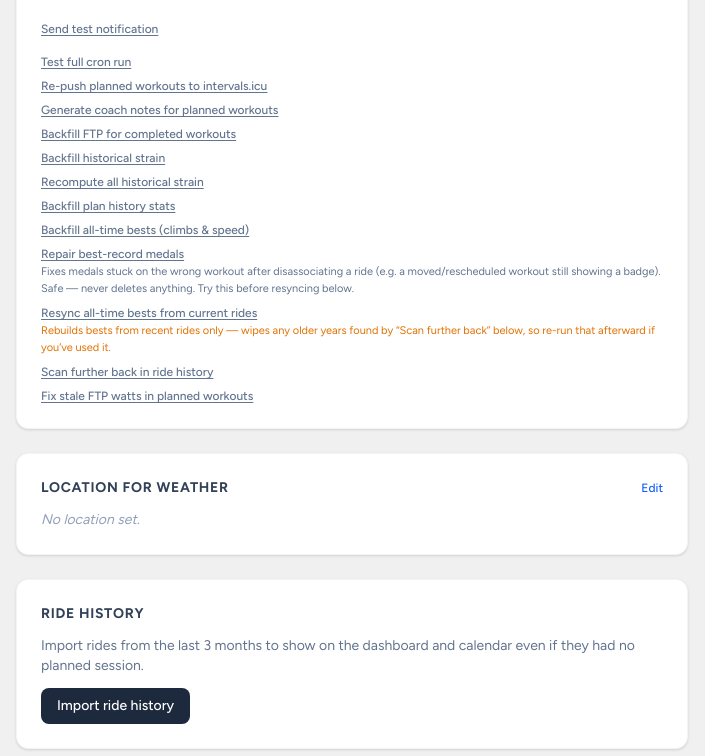
Test: Account page — deep-history bests scan auto-continues across batches › keeps requesting further batches without another click, until reachedPossibleStart
(page scrolled)
Click the button "Scan further back in ride history": (127, 372) [41,364,213,380]
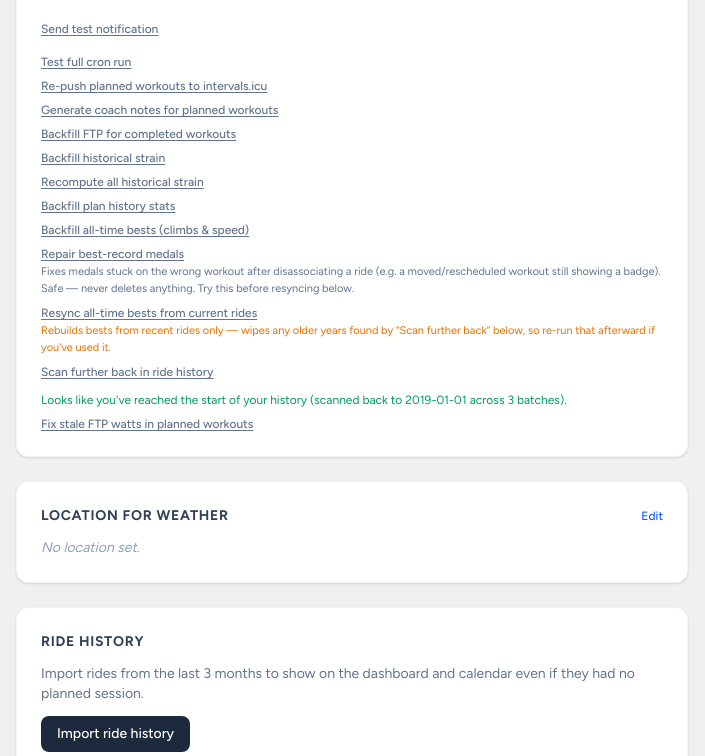
Now the text "reached the start of your history" is shown, box [41,393,567,407]
